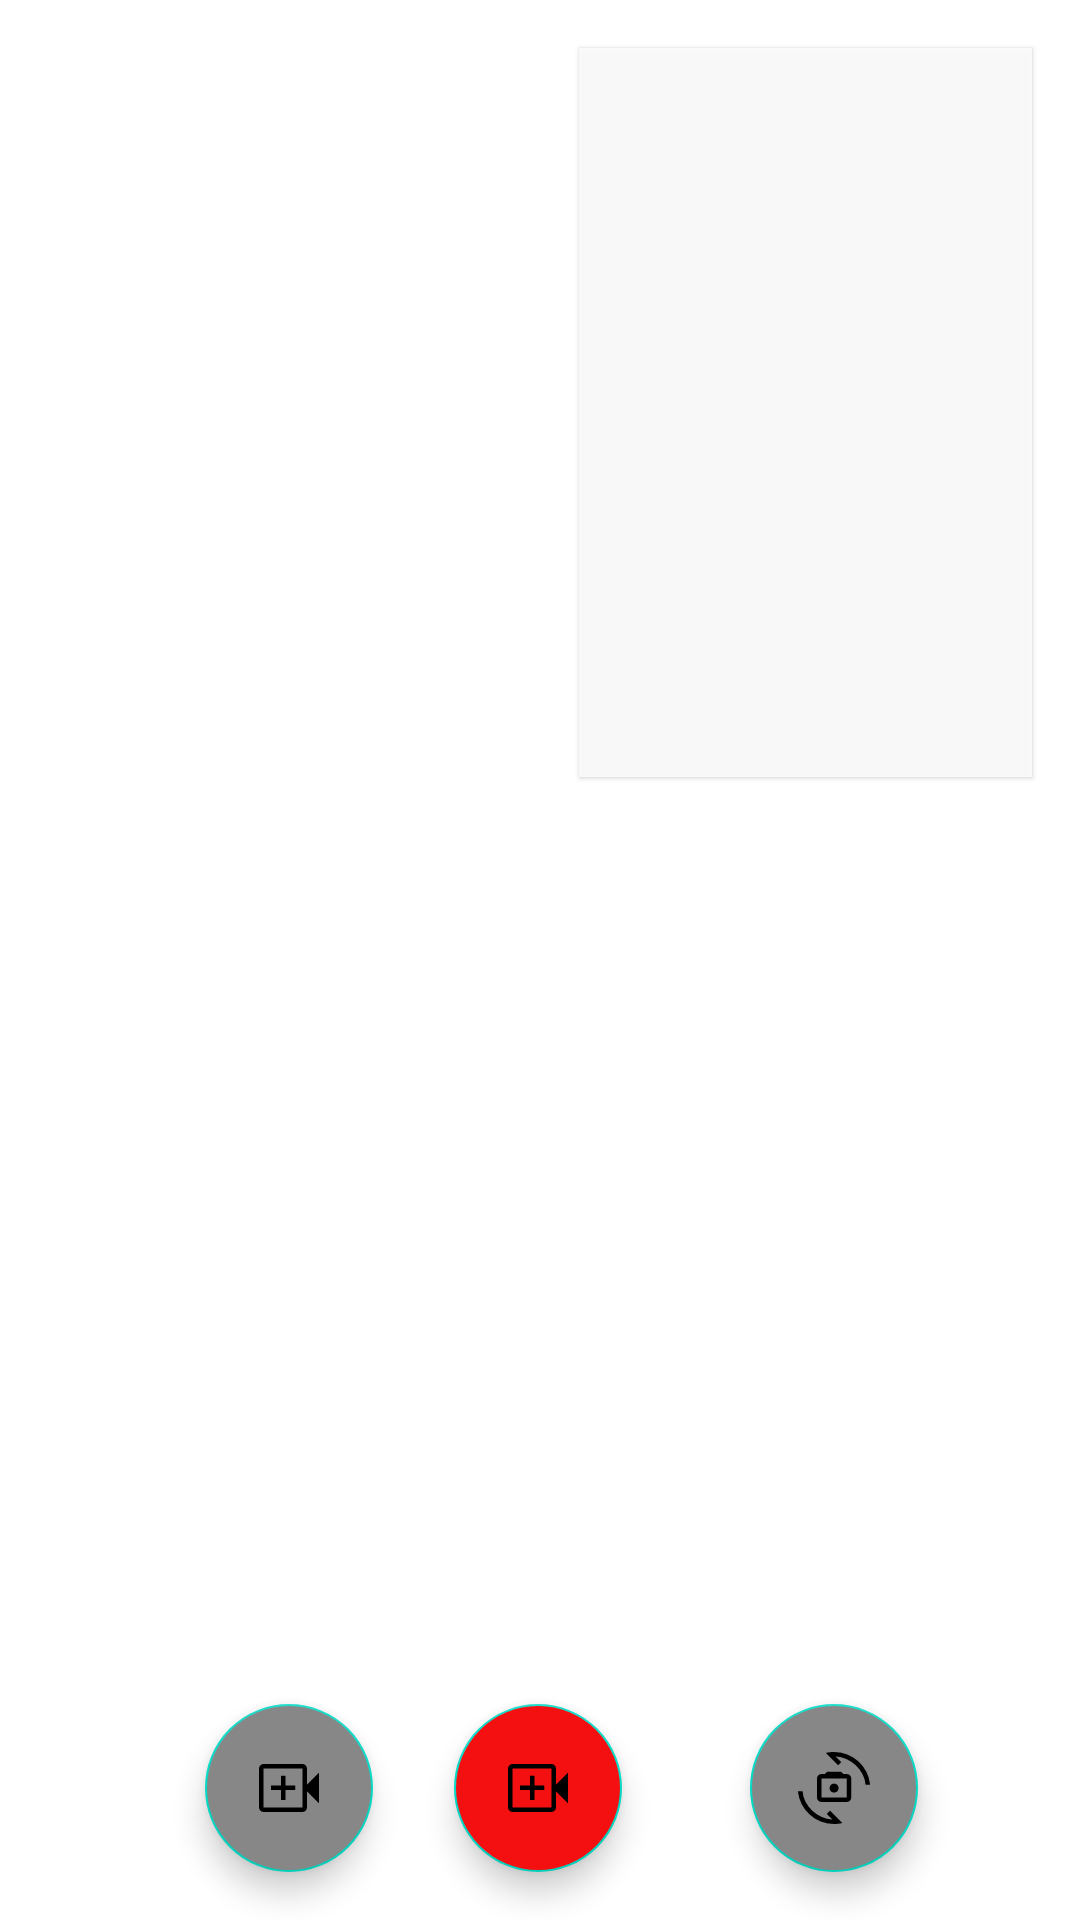

Named icons in this screenshot (1080 x 1920) and their centers, (x=x, y=y):
cameraswitch: (x=834, y=1788)
videocall: (x=289, y=1788), (x=538, y=1788)
